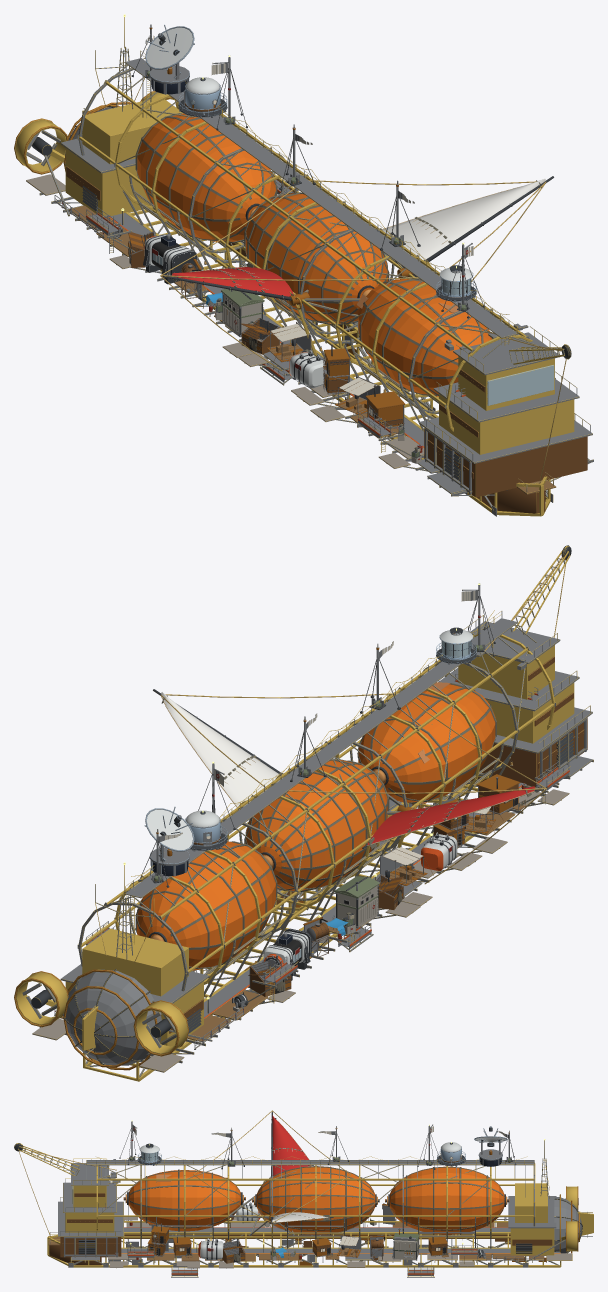
File: sky_city.fbx
3 renders of one model, top to bottom at view 1: azimuth 30°, elevation 25°; view 2: azimuth 150°, elevation 25°; view 3: azimuth 270°, elevation 25°, orthographic. The views are drawn at different scales.
Visible parts, largest first — view 1: Mesh_SkyCity_BowCastle, Mesh_SkyCity_Cage, Mesh_SkyCity_Bag3_GasEnvelope_Plain, Mesh_SkyCity_Bag2_GasEnvelope_Banded, Mesh_SkyCity_Bag1_GasEnvelope_Patched, Mesh_SkyCity_SternBlock, Mesh_SkyCity_Decks, Mesh_SkyCity_Gantry, Mesh_SkyCity_SailStbd_LateenSail_Main, Mesh_SkyCity_Keel, Mesh_SkyCity_Outriggers, Mesh_SkyCity_Dish_SensorCupola_Dish (+15 smaller); view 2: Mesh_SkyCity_SternBlock, Mesh_SkyCity_BowCastle, Mesh_SkyCity_Cage, Mesh_SkyCity_Bag2_GasEnvelope_Banded, Mesh_SkyCity_Bag3_GasEnvelope_Plain, Mesh_SkyCity_Bag1_GasEnvelope_Patched, Mesh_SkyCity_Decks, Mesh_SkyCity_Gantry, Mesh_SkyCity_SternGear, Mesh_SkyCity_SailStbd_LateenSail_Main, Mesh_SkyCity_Keel, Mesh_SkyCity_SailPort_LateenSail_PatchedPort (+13 smaller); view 3: Mesh_SkyCity_Decks, Mesh_SkyCity_BowCastle, Mesh_SkyCity_Bag3_GasEnvelope_Plain, Mesh_SkyCity_Bag2_GasEnvelope_Banded, Mesh_SkyCity_Cage, Mesh_SkyCity_Bag1_GasEnvelope_Patched, Mesh_SkyCity_Keel, Mesh_SkyCity_SternBlock, Mesh_SkyCity_Gantry, Mesh_SkyCity_Cradles, Mesh_SkyCity_SailPort_LateenSail_PatchedPort, Mesh_SkyCity_SternGear (+21 smaller).
Boxes of the visible parts, bbox=[...] form: Mesh_SkyCity_BowCastle: bbox=[419, 323, 592, 497]; Mesh_SkyCity_Cage: bbox=[77, 67, 555, 431]; Mesh_SkyCity_Bag3_GasEnvelope_Plain: bbox=[135, 113, 277, 243]; Mesh_SkyCity_Bag2_GasEnvelope_Banded: bbox=[244, 192, 389, 325]; Mesh_SkyCity_Bag1_GasEnvelope_Patched: bbox=[356, 279, 492, 396]; Mesh_SkyCity_SternBlock: bbox=[60, 14, 183, 216]; Mesh_SkyCity_Decks: bbox=[26, 174, 593, 496]; Mesh_SkyCity_Gantry: bbox=[108, 49, 536, 358]; Mesh_SkyCity_SailStbd_LateenSail_Main: bbox=[382, 176, 554, 267]; Mesh_SkyCity_Keel: bbox=[125, 209, 553, 516]; Mesh_SkyCity_Outriggers: bbox=[160, 180, 546, 371]; Mesh_SkyCity_Dish_SensorCupola_Dish: bbox=[145, 24, 194, 94]; Mesh_SkyCity_SternBlock: bbox=[60, 862, 209, 1070]; Mesh_SkyCity_BowCastle: bbox=[438, 545, 592, 787]; Mesh_SkyCity_Cage: bbox=[77, 633, 555, 996]; Mesh_SkyCity_Bag2_GasEnvelope_Banded: bbox=[244, 759, 389, 891]; Mesh_SkyCity_Bag3_GasEnvelope_Plain: bbox=[135, 841, 277, 970]; Mesh_SkyCity_Bag1_GasEnvelope_Patched: bbox=[357, 682, 496, 803]; Mesh_SkyCity_Decks: bbox=[32, 752, 593, 1072]; Mesh_SkyCity_Gantry: bbox=[106, 610, 536, 917]; Mesh_SkyCity_SternGear: bbox=[14, 971, 212, 1056]; Mesh_SkyCity_SailStbd_LateenSail_Main: bbox=[153, 689, 282, 820]; Mesh_SkyCity_Keel: bbox=[83, 776, 539, 1081]; Mesh_SkyCity_SailPort_LateenSail_PatchedPort: bbox=[362, 786, 543, 849]; Mesh_SkyCity_Decks: bbox=[70, 1205, 572, 1277]; Mesh_SkyCity_BowCastle: bbox=[14, 1143, 123, 1257]; Mesh_SkyCity_Bag3_GasEnvelope_Plain: bbox=[385, 1166, 509, 1234]; Mesh_SkyCity_Bag2_GasEnvelope_Banded: bbox=[252, 1166, 379, 1235]; Mesh_SkyCity_Cage: bbox=[96, 1163, 535, 1248]; Mesh_SkyCity_Bag1_GasEnvelope_Patched: bbox=[123, 1169, 245, 1231]; Mesh_SkyCity_Keel: bbox=[68, 1232, 561, 1267]; Mesh_SkyCity_SternBlock: bbox=[508, 1139, 582, 1255]; Mesh_SkyCity_Gantry: bbox=[86, 1156, 534, 1179]; Mesh_SkyCity_Cradles: bbox=[156, 1165, 475, 1248]; Mesh_SkyCity_SailPort_LateenSail_PatchedPort: bbox=[270, 1112, 313, 1176]; Mesh_SkyCity_SternGear: bbox=[525, 1186, 593, 1262].
Bounding box in the file's own units: 6188 × 3586 × 13268.
